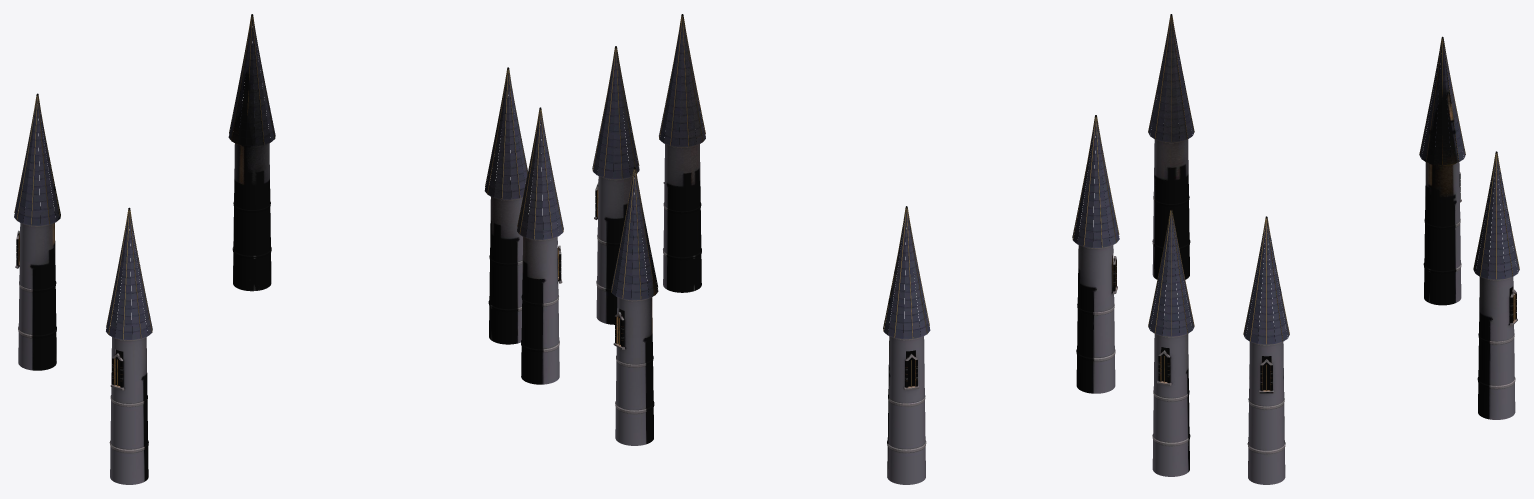
Rendered from wall_turrets_skin.glb.
The picture shows the model from 3 angles, left to right: view 1: azimuth 30°, elevation 25°; view 2: azimuth 150°, elevation 25°; view 3: azimuth 270°, elevation 25°; orthographic projection. The views are drawn at different scales.
Parts seen in each view (by area): view 1: wall_turrets_skin.001; view 2: wall_turrets_skin.001; view 3: wall_turrets_skin.001.
Boxes of the visible parts, box(x1,y1,x2,y2) form: wall_turrets_skin.001: box(14, 14, 563, 484); wall_turrets_skin.001: box(592, 14, 1119, 484); wall_turrets_skin.001: box(1148, 14, 1519, 484).
Bounding box in the file's own units: 40.46 × 22.12 × 28.63.
Materials: 1 (1 with a texture image).
